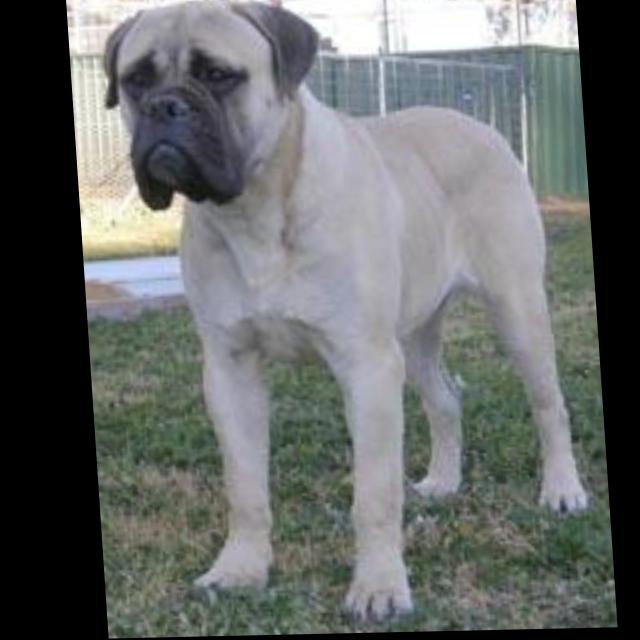bullmastiff: (95, 1, 588, 631)
